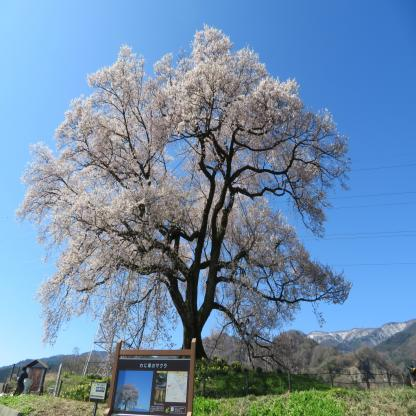EdohiganSakura: (14, 20, 354, 348)
